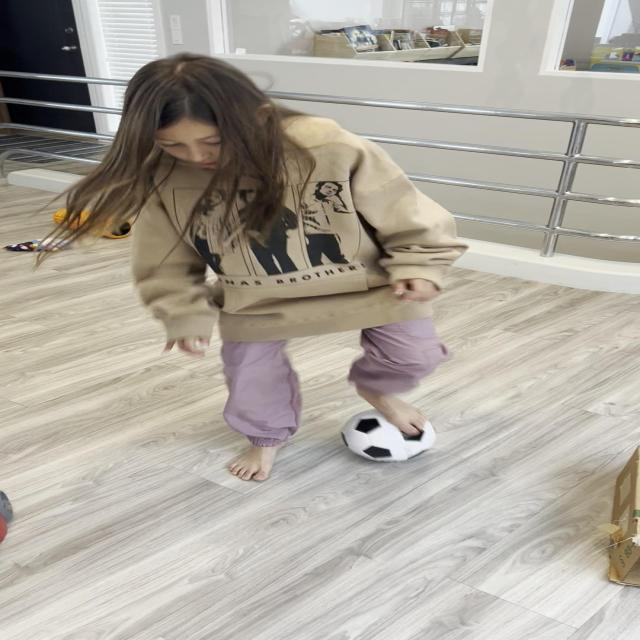Soccer Ball: (342, 407, 436, 462)
